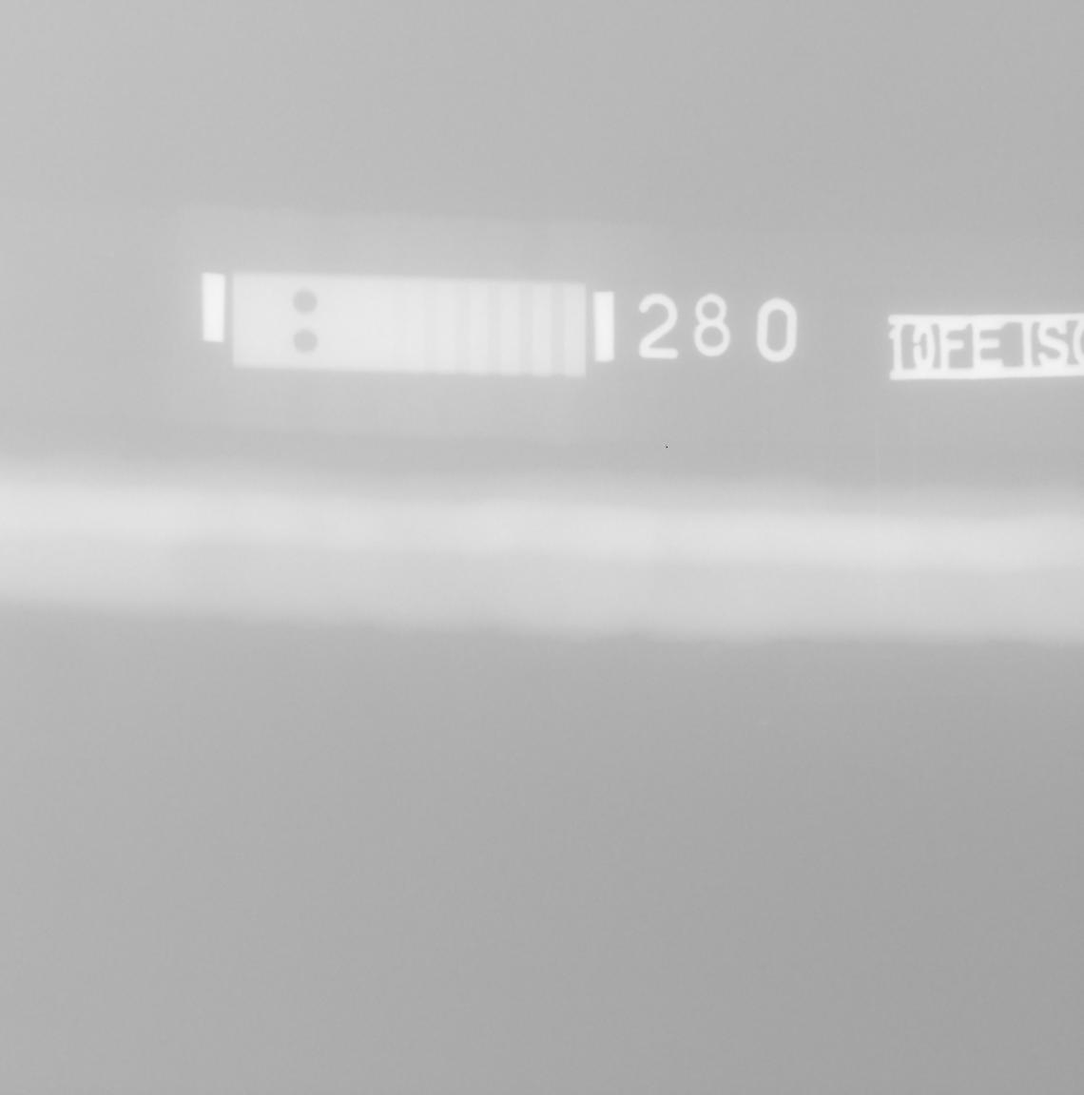Reference Standard 2: (231, 270, 587, 378)
